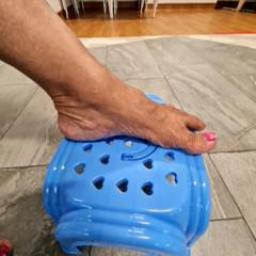Medial View -Left Foot-: (31, 48, 240, 173)
